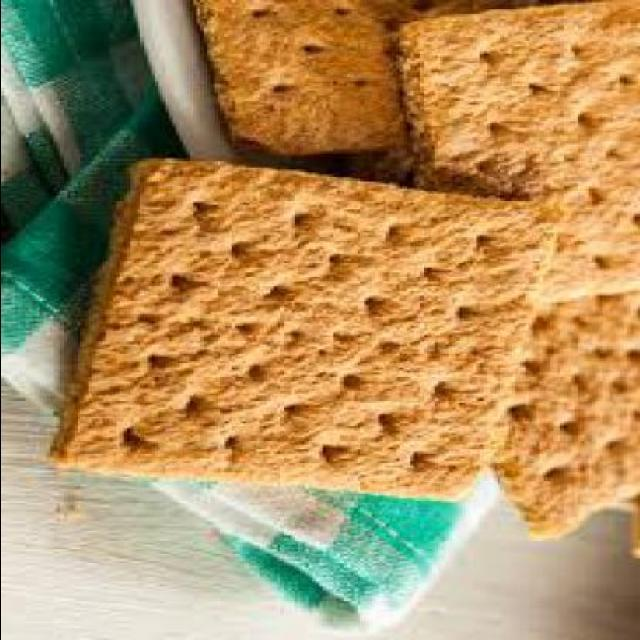Cracker packaged: (38, 150, 570, 526)
